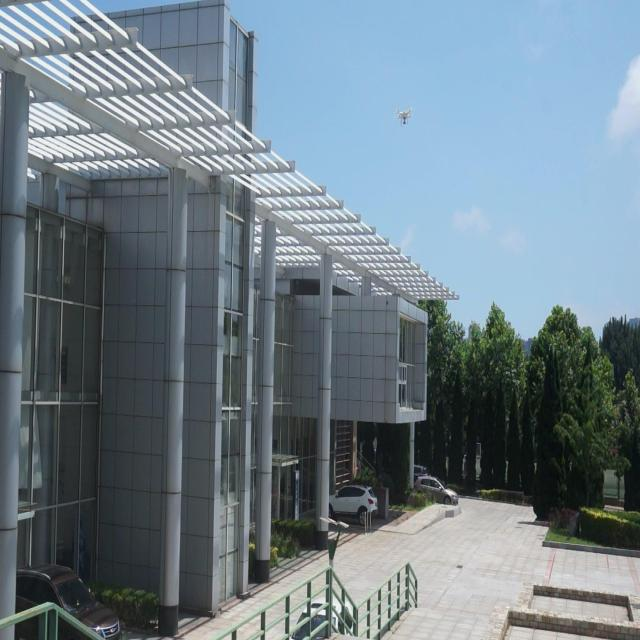drone: (394, 104, 413, 130)
